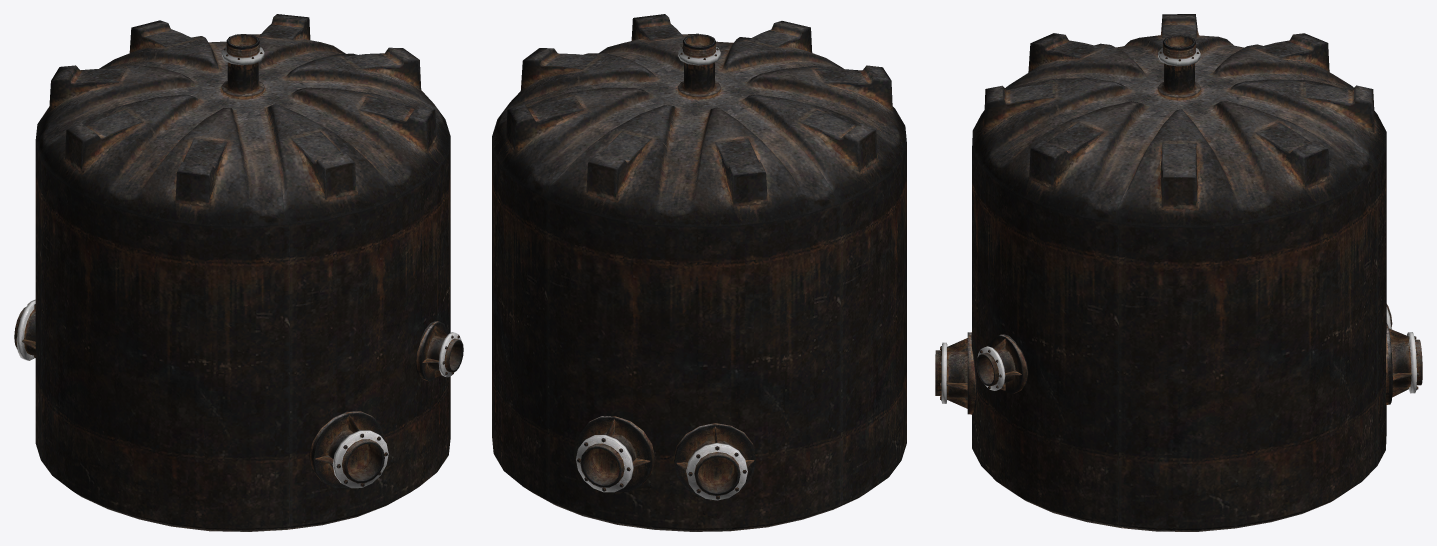
Rendered from sm22_006_thicktank01a.fbx.
3 views of the same model, side by side, from view 1: azimuth 30°, elevation 25°; view 2: azimuth 150°, elevation 25°; view 3: azimuth 270°, elevation 25° (orthographic).
Parts seen in each view (by area): view 1: LOD_1_Group_0_Sub_1__sm22_006_ThickTank01A_A_Mat; view 2: LOD_1_Group_0_Sub_1__sm22_006_ThickTank01A_A_Mat; view 3: LOD_1_Group_0_Sub_1__sm22_006_ThickTank01A_A_Mat.
Part boxes in pixels (<box>): LOD_1_Group_0_Sub_1__sm22_006_ThickTank01A_A_Mat: <box>14,14,463,531</box>; LOD_1_Group_0_Sub_1__sm22_006_ThickTank01A_A_Mat: <box>492,14,906,531</box>; LOD_1_Group_0_Sub_1__sm22_006_ThickTank01A_A_Mat: <box>935,14,1422,531</box>.
Size of the model in its own units: 2.37 by 2.57 by 2.79.
